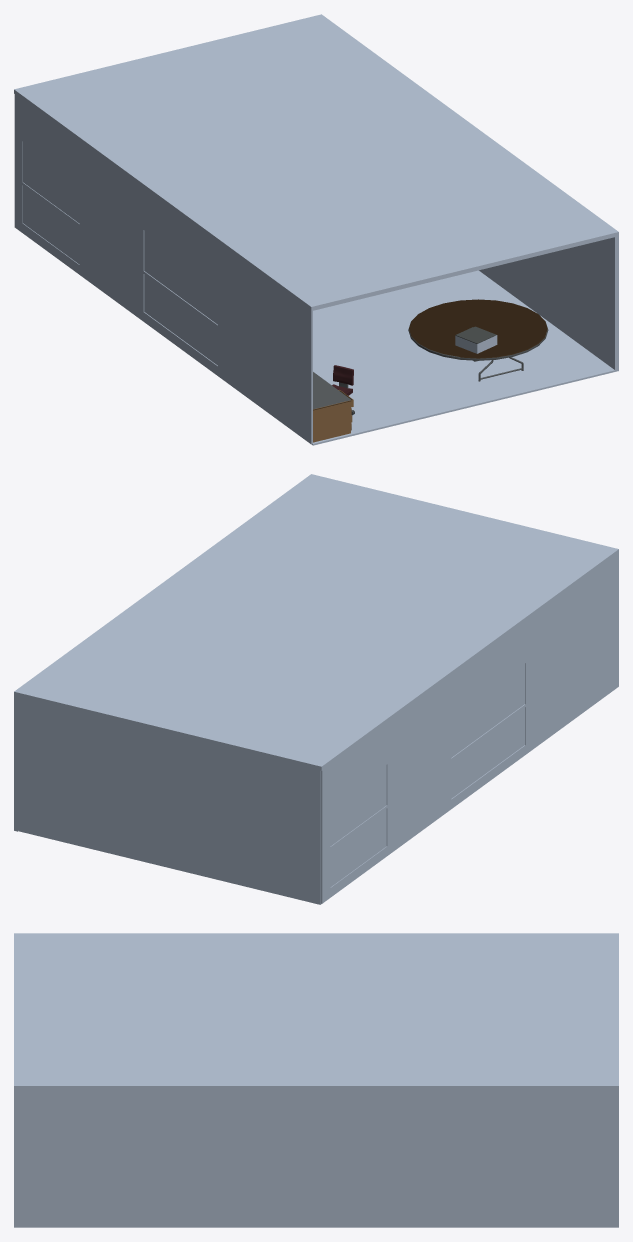
The model's file is Scene2_Sketchfab.fbx.
3 renders of one model, top to bottom at view 1: azimuth 30°, elevation 25°; view 2: azimuth 150°, elevation 25°; view 3: azimuth 270°, elevation 25°, orthographic.
Visible parts, largest first — view 1: pCube24, pCube2, pCube1, pCube23, RM_CircleTable:RM_CircleTable, RM_DoubleDesk:RM_DoubleDesk, RM_Printer:RM_Printer; view 2: pCube24, pCube3, pCube2; view 3: pCube24, pCube23.
Part boxes in pixels (x1=…): pCube24: x1=14, y1=14, x2=618, y2=310; pCube2: x1=14, y1=94, x2=312, y2=444; pCube1: x1=312, y1=270, x2=614, y2=445; pCube23: x1=479, y1=236, x2=618, y2=371; RM_CircleTable:RM_CircleTable: x1=408, y1=299, x2=548, y2=381; RM_DoubleDesk:RM_DoubleDesk: x1=313, y1=372, x2=353, y2=442; RM_Printer:RM_Printer: x1=455, y1=326, x2=497, y2=353; pCube24: x1=14, y1=474, x2=618, y2=770; pCube3: x1=18, y1=697, x2=320, y2=903; pCube2: x1=320, y1=553, x2=618, y2=903; pCube24: x1=14, y1=933, x2=618, y2=1090; pCube23: x1=14, y1=1090, x2=618, y2=1227.
Bounding box in the file's own units: 26.35 × 11.38 × 44.11.
Materials: 1 (1 with a texture image).
